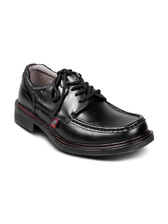shoesd: (13, 61, 160, 156)
